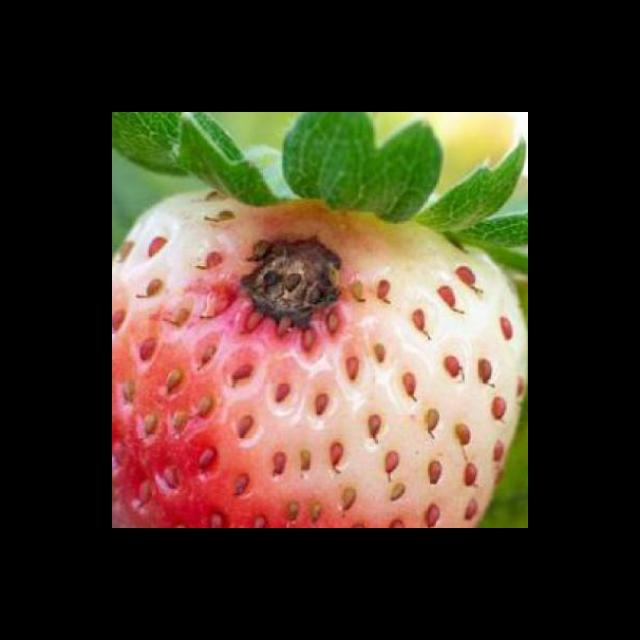Anthracnose Fruit Rot: (220, 217, 370, 352)
